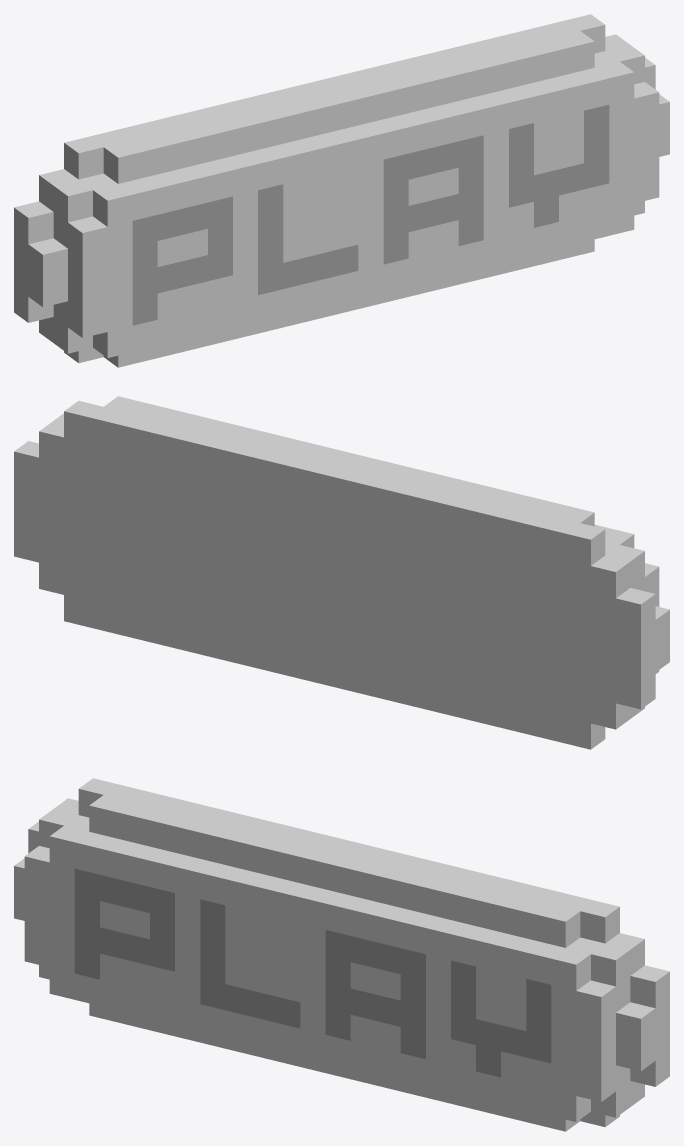
Rendered from botao_de_play.fbx.
The picture shows the model from 3 angles, top to bottom: view 1: azimuth 30°, elevation 25°; view 2: azimuth 150°, elevation 25°; view 3: azimuth 330°, elevation 25°; orthographic projection.
Visible parts, largest first — view 1: play_botao:play_botao; view 2: play_botao:play_botao; view 3: play_botao:play_botao.
Part boxes in pixels (left/top/right/bottom): play_botao:play_botao: left=14, top=14, right=669, bottom=367; play_botao:play_botao: left=14, top=396, right=669, bottom=749; play_botao:play_botao: left=14, top=778, right=669, bottom=1131.
Bounding box in the file's own units: 25 × 8 × 3.
2 materials, 1 textured.
